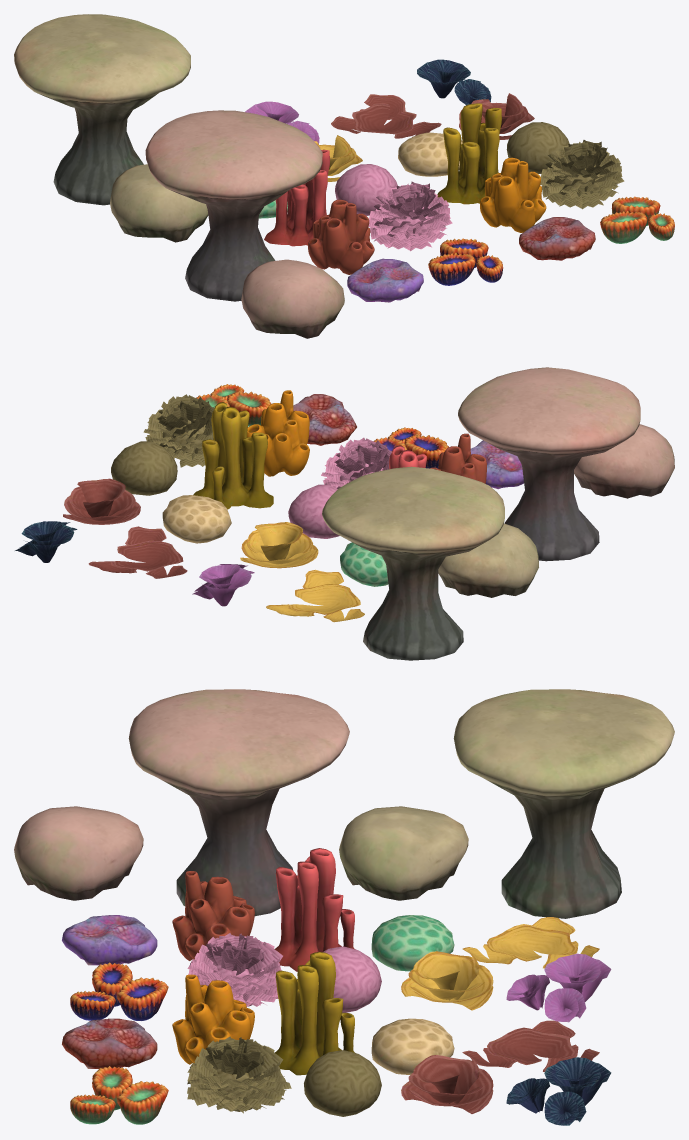
3 renders of one model, top to bottom at view 1: azimuth 30°, elevation 25°; view 2: azimuth 150°, elevation 25°; view 3: azimuth 270°, elevation 25°, orthographic. The views are drawn at different scales.
Visible parts, largest first — view 1: Coral02_low, Coral02_low1, Coral01_low, Coral01_low1, coral11, coral14, coral23, coral19, coral10, coral25, coral17, coral20 (+10 smaller); view 2: Coral02_low1, Coral02_low, coral11, Coral01_low, Coral01_low1, coral14, coral10, coral15, coral16, coral28, coral17, coral24 (+12 smaller); view 3: Coral02_low1, Coral02_low, Coral01_low, Coral01_low1, coral11, coral25, coral14, coral23, coral19, coral10, coral18, coral21 (+12 smaller).
Part boxes in pixels (x1,y1,x2,y2): Coral02_low: (145,110,322,301); Coral02_low1: (14,14,190,205); Coral01_low: (241,259,344,338); Coral01_low1: (110,164,208,242); coral11: (437,103,501,204); coral14: (540,140,624,209); coral23: (368,181,452,251); coral19: (308,199,374,274); coral10: (480,157,546,232); coral25: (264,149,329,246); coral17: (331,94,441,138); coral20: (347,258,423,302); Coral02_low1: (322,466,504,660); Coral02_low: (458,367,640,561); coral11: (193,402,273,509); Coral01_low: (574,424,674,498); Coral01_low1: (438,523,538,597); coral14: (143,394,214,467); coral10: (247,390,309,476); coral15: (111,441,177,495); coral16: (63,478,140,524); coral28: (240,522,318,568); coral17: (88,526,187,578); coral24: (266,569,364,622); Coral02_low1: (453,689,674,918); Coral02_low: (128,689,349,916); Coral01_low: (14,806,143,900); Coral01_low1: (339,806,468,900); coral11: (274,951,354,1075); coral25: (274,848,355,971); coral14: (187,1036,291,1113); coral23: (187,933,282,1006); coral19: (172,871,254,960); coral10: (172,974,254,1064); coral18: (506,1057,611,1125); coral21: (506,953,611,1022).
Bounding box in the file's own units: 0.259 × 0.0827 × 0.259.
4 materials, 4 textured.
